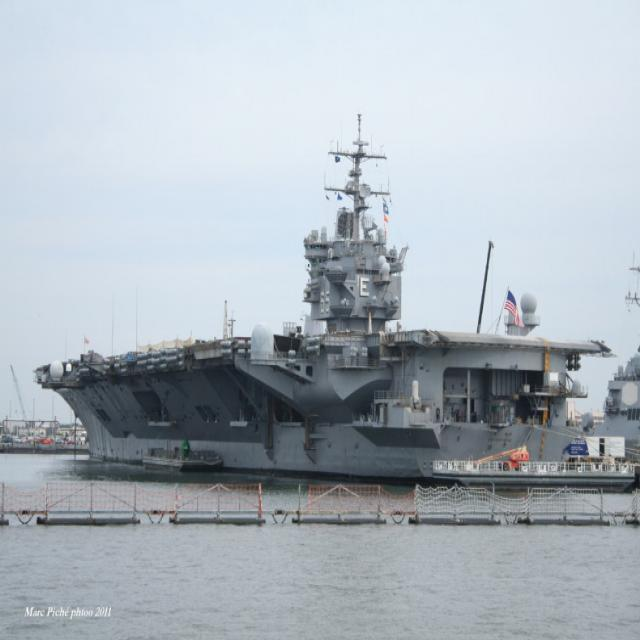Portanaves: (22, 94, 618, 473)
